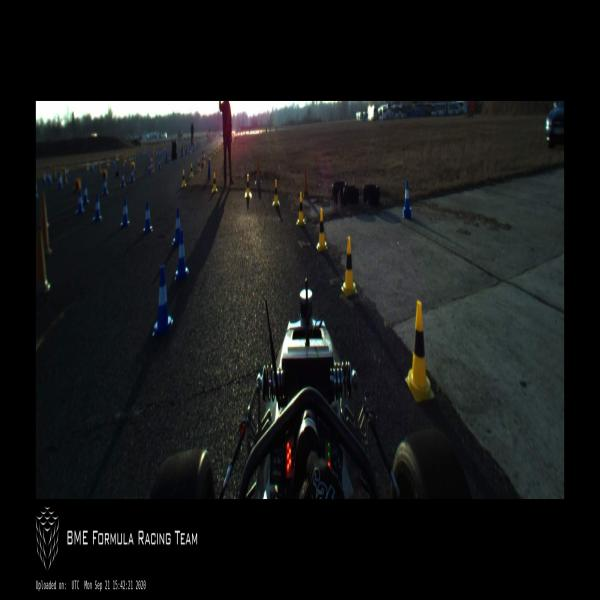blue_cone: (152, 265, 173, 336), (174, 230, 189, 282), (171, 208, 184, 246), (403, 179, 412, 218), (143, 200, 153, 234), (120, 196, 130, 228), (93, 194, 102, 223), (76, 190, 85, 215), (102, 178, 109, 196), (83, 184, 89, 204), (120, 170, 126, 188), (58, 173, 62, 189), (130, 169, 134, 183), (42, 172, 46, 184), (36, 179, 38, 198), (148, 163, 151, 175), (181, 146, 184, 158), (66, 167, 69, 178), (133, 152, 136, 162), (158, 160, 160, 170), (168, 154, 170, 164), (49, 173, 51, 183), (92, 161, 94, 170), (113, 158, 115, 166), (194, 144, 196, 152), (185, 147, 187, 154), (156, 152, 158, 159), (199, 142, 201, 149), (161, 150, 163, 156), (189, 145, 190, 155), (48, 172, 49, 180), (147, 149, 148, 157), (142, 149, 143, 156)
large_orange_cone: (150, 153, 152, 173)
unknown_cone: (36, 230, 52, 294), (38, 195, 53, 252), (303, 167, 309, 198), (255, 159, 262, 184), (73, 179, 81, 192), (200, 151, 204, 169), (97, 158, 101, 174), (208, 161, 211, 180), (103, 170, 107, 180), (131, 161, 135, 171), (165, 152, 168, 163), (64, 169, 66, 183)
yellow_cone: (405, 300, 434, 402), (341, 237, 357, 297), (316, 208, 328, 252), (296, 192, 306, 225), (272, 179, 280, 208), (244, 176, 252, 199), (212, 172, 218, 194), (182, 169, 186, 187), (189, 163, 194, 177), (197, 160, 200, 172), (107, 158, 110, 167), (86, 161, 89, 169), (54, 168, 56, 179), (115, 154, 118, 161), (122, 158, 125, 165), (204, 154, 206, 164), (219, 144, 222, 150), (216, 146, 218, 154), (124, 155, 126, 163), (144, 147, 146, 154), (131, 152, 133, 159), (129, 153, 131, 159), (153, 147, 155, 152), (209, 151, 210, 159), (214, 147, 215, 154)
